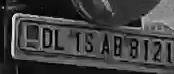1: (73, 31, 83, 52), (165, 41, 174, 64), (144, 39, 150, 62)
2: (152, 41, 163, 62)
A: (98, 35, 112, 56)
B: (112, 34, 125, 58), (129, 38, 139, 60)
D: (38, 26, 53, 51)
L: (53, 29, 65, 52)
S: (84, 32, 94, 54)
